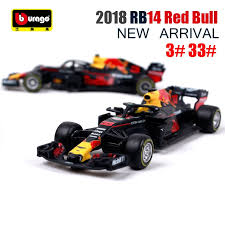FormulaOneCar: (37, 86, 223, 176)
